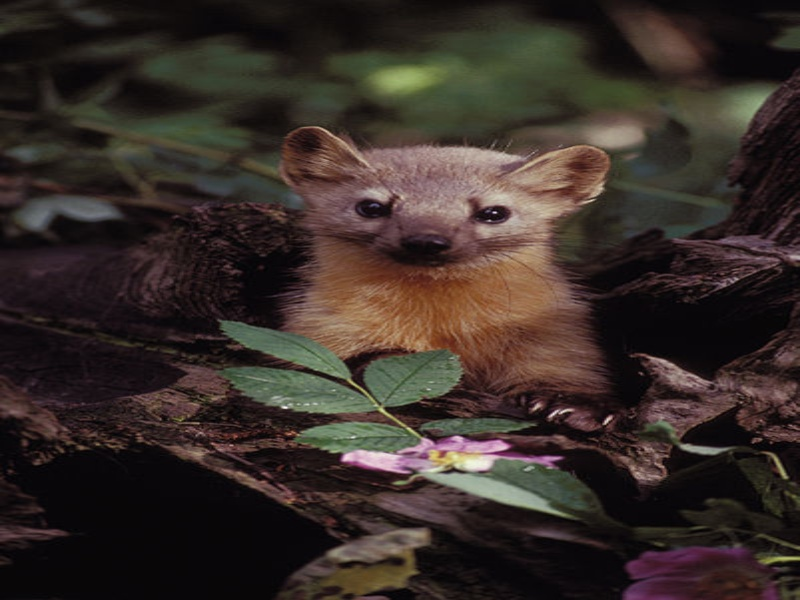minkish: (257, 123, 619, 433)
